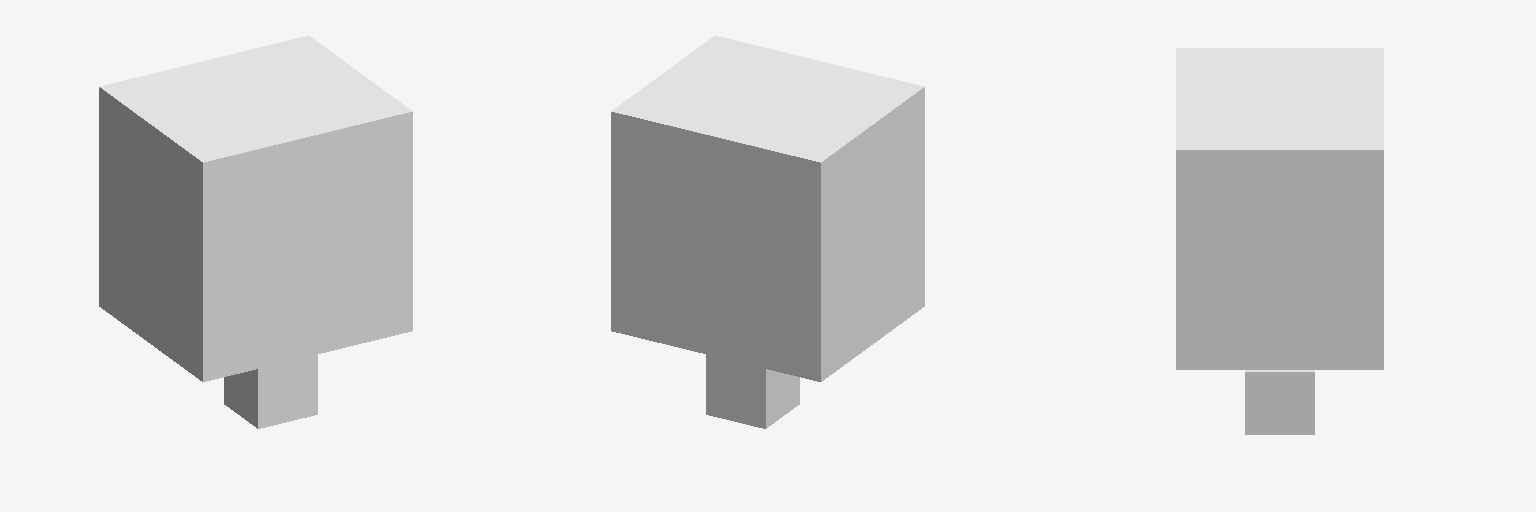
The model's file is bush-1.obj.
The picture shows the model from 3 angles: view 1: azimuth 30°, elevation 25°; view 2: azimuth 150°, elevation 25°; view 3: azimuth 270°, elevation 25°; orthographic projection.
Visible parts, largest first — view 1: object 1; view 2: object 1; view 3: object 1.
Boxes of the visible parts, box(x1,y1,x2,y2) form: object 1: box(99, 36, 412, 428); object 1: box(611, 36, 924, 428); object 1: box(1176, 48, 1383, 434).
Size of the model in its own units: 0.7 by 1 by 0.6.